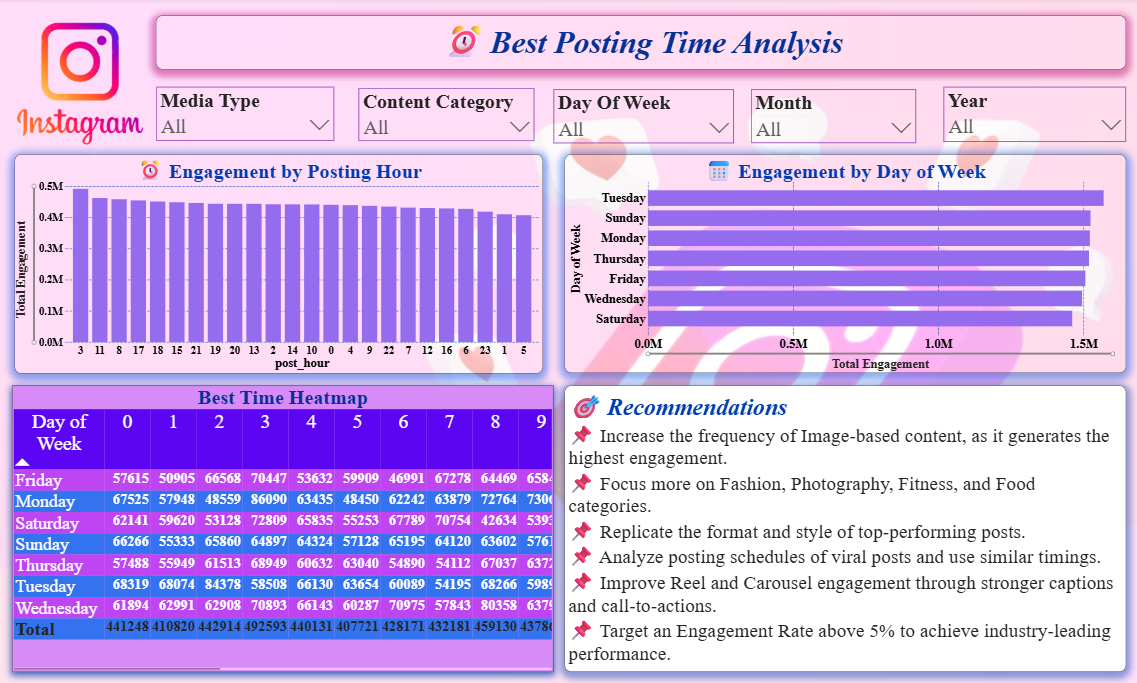

This screenshot's page, from the dashboard's own definition file:
{"tool":"powerbi","page":{"name":"Best Time to Post Analysis","canvas":[4250,2550],"ordinal":4},"visuals":[{"type":"textbox","box":[594.8,65.1,3605.7,199.8],"z":0},{"type":"slicer","fields":{"Values":["instagram_cleaned.media_type"]},"box":[595.1,331.1,662.2,201.2],"z":1000},{"type":"slicer","fields":{"Values":["instagram_cleaned.content_category"]},"box":[1345.3,335.3,653.8,197],"z":2000},{"type":"slicer","fields":{"Values":["instagram_cleaned.day_of_week"]},"box":[2074.5,339.5,670.6,201.2],"z":3000},{"type":"slicer","fields":{"Values":["instagram_cleaned.month"]},"box":[2806.5,339.2,613.3,199.8],"z":4000},{"type":"slicer","fields":{"Values":["instagram_cleaned.year"]},"box":[3522.1,329.9,678.4,204.4],"z":5000},{"type":"columnChart","title":"⏰ Engagement by Posting Hour","fields":{"Category":["instagram_cleaned.post_hour"],"Y":["instagram_cleaned.Total Engagement"]},"box":[68.3,578.5,1963.4,815.4],"z":6000},{"type":"clusteredBarChart","title":"📅 Engagement by Day of Week","fields":{"Category":["instagram_cleaned.day_of_week"],"Y":["instagram_cleaned.Total Engagement"]},"box":[2114.2,580.8,2086.3,813.1],"z":7000},{"type":"pivotTable","title":" Best Time Heatmap","fields":{"Rows":["instagram_cleaned.day_of_week"],"Columns":["instagram_cleaned.post_hour"],"Values":["instagram_cleaned.Total Engagement"]},"box":[60.4,1440.4,2011.9,1064.1],"z":8000},{"type":"image","box":[0,0,624.5,637],"z":9000},{"type":"textbox","box":[2114.2,1440.4,2086.3,1064.1],"z":10000}]}

Visuals, with their boxes in screenshot pixels (x1, y1, x2, y2), scaled from the page's 4250x2550 canvas onto the 1137x683 screenshot:
textbox: (left=159, top=17, right=1124, bottom=71)
slicer - instagram_cleaned.media_type: (left=159, top=89, right=336, bottom=143)
slicer - instagram_cleaned.content_category: (left=360, top=90, right=535, bottom=143)
slicer - instagram_cleaned.day_of_week: (left=555, top=91, right=734, bottom=145)
slicer - instagram_cleaned.month: (left=751, top=91, right=915, bottom=144)
slicer - instagram_cleaned.year: (left=942, top=88, right=1124, bottom=143)
"⏰ Engagement by Posting Hour" columnChart: (left=18, top=155, right=544, bottom=373)
"📅 Engagement by Day of Week" clusteredBarChart: (left=566, top=156, right=1124, bottom=373)
" Best Time Heatmap" pivotTable: (left=16, top=386, right=554, bottom=671)
image: (left=0, top=0, right=167, bottom=171)
textbox: (left=566, top=386, right=1124, bottom=671)
